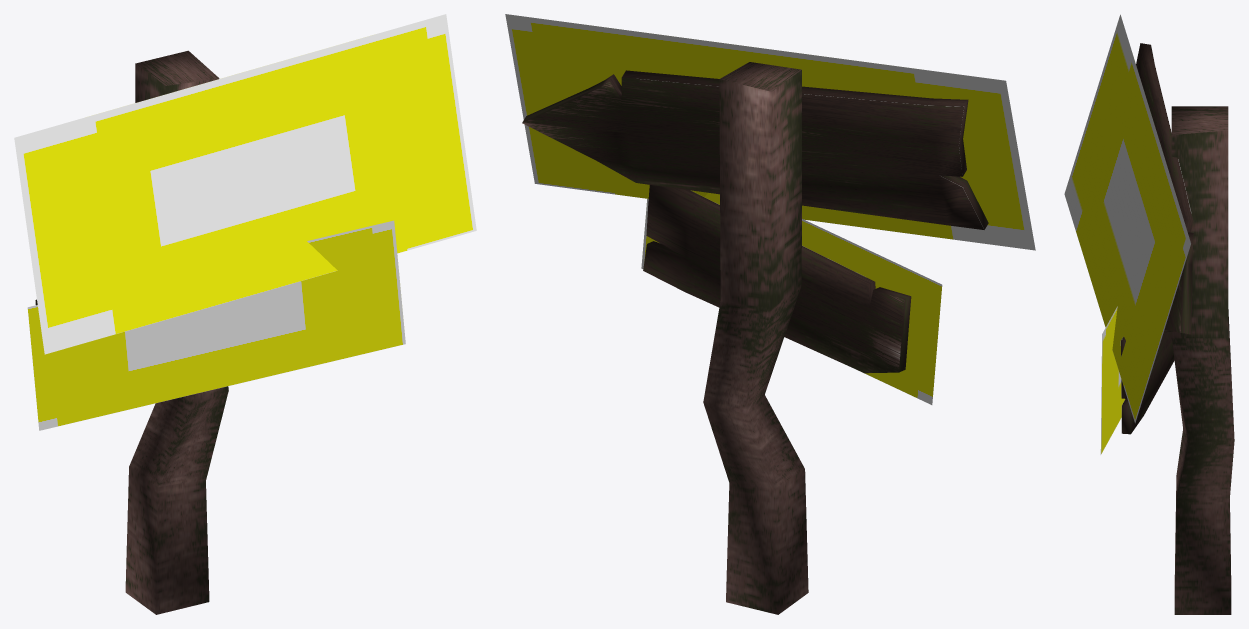
The model's file is woodsign_animated.fbx.
3 renders of one model, left to right at view 1: azimuth 30°, elevation 25°; view 2: azimuth 150°, elevation 25°; view 3: azimuth 270°, elevation 25°, orthographic. The views are drawn at different scales.
Visible parts, largest first — view 1: StartHighlight, QuitHighlight, Sign; view 2: Sign, StartHighlight, QuitHighlight; view 3: Sign, StartHighlight, QuitHighlight.
Part boxes in pixels (x1,y1,x2,y2): StartHighlight: [14, 14, 476, 354]; QuitHighlight: [27, 220, 405, 430]; Sign: [35, 50, 228, 614]; Sign: [522, 62, 988, 614]; StartHighlight: [505, 14, 1035, 250]; QuitHighlight: [641, 193, 942, 404]; Sign: [1120, 43, 1234, 614]; StartHighlight: [1064, 14, 1190, 423]; QuitHighlight: [1100, 306, 1124, 454].
Bounding box in the file's own units: 249 × 274 × 84.42.
